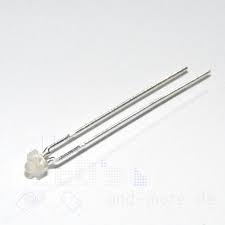LED: (17, 135, 66, 187)
